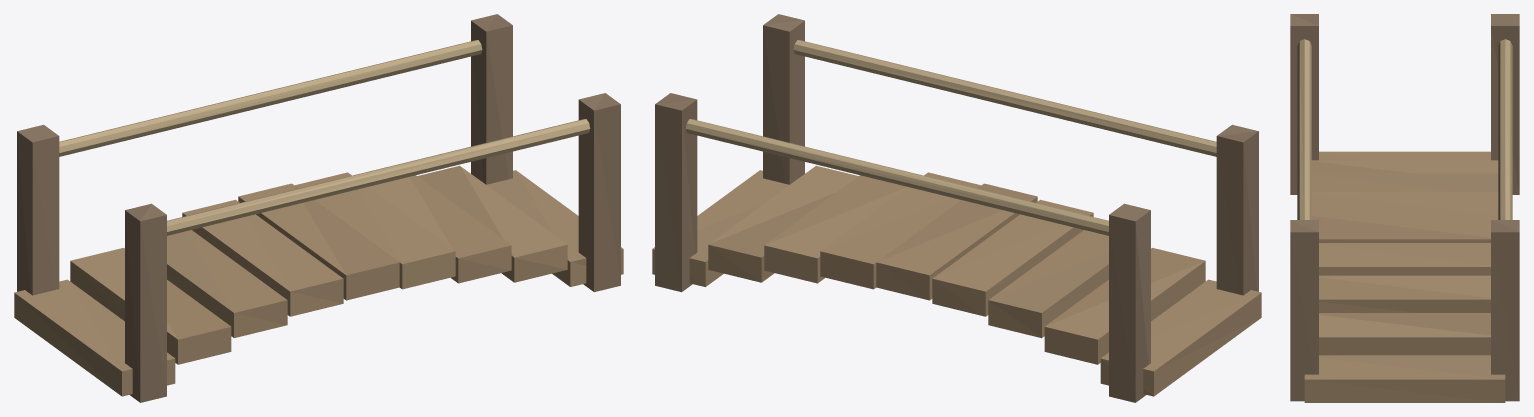
Rendered from bridge.glb.
3 views of the same model, side by side, from view 1: azimuth 30°, elevation 25°; view 2: azimuth 150°, elevation 25°; view 3: azimuth 270°, elevation 25° (orthographic). The views are drawn at different scales.
Visible parts, largest first — view 1: post_-0.85_-0.35, post_0.85_-0.35, plank_0, plank_3, plank_2, post_-0.85_0.35, plank_4, rail_0.35, rail_-0.35, plank_5, plank_1, plank_7 (+3 smaller); view 2: post_-0.85_0.35, post_0.85_0.35, plank_0, plank_3, plank_2, post_-0.85_-0.35, plank_4, rail_-0.35, rail_0.35, plank_5, plank_1, plank_7 (+3 smaller); view 3: plank_8, plank_7, plank_6, plank_5, post_0.85_-0.35, post_0.85_0.35, plank_4, plank_3, plank_2, post_-0.85_-0.35, post_-0.85_0.35, rail_-0.35 (+3 smaller).
Boxes of the visible parts, box(x1,y1,x2,y2) form: post_-0.85_-0.35: box(125, 203, 166, 402); post_0.85_-0.35: box(578, 93, 620, 292); plank_0: box(14, 279, 175, 396); plank_3: box(182, 199, 343, 316); plank_2: box(167, 230, 287, 338); post_-0.85_0.35: box(17, 124, 59, 295); plank_4: box(238, 183, 399, 300); rail_0.35: box(59, 40, 482, 156); rail_-0.35: box(167, 119, 590, 235); plank_5: box(295, 172, 455, 289); plank_1: box(70, 248, 231, 364); plank_7: box(417, 165, 567, 282); post_-0.85_0.35: box(1109, 203, 1150, 402); post_0.85_0.35: box(655, 93, 697, 292); plank_0: box(1100, 279, 1261, 396); plank_3: box(932, 199, 1093, 316); plank_2: box(988, 230, 1108, 338); post_-0.85_-0.35: box(1216, 124, 1258, 295); plank_4: box(876, 183, 1037, 300); rail_-0.35: box(793, 40, 1216, 156); rail_0.35: box(685, 119, 1108, 235); plank_5: box(820, 172, 980, 289); plank_1: box(1044, 248, 1205, 364); plank_7: box(708, 165, 858, 282); plank_8: box(1304, 355, 1505, 402); plank_7: box(1319, 313, 1490, 355); plank_6: box(1319, 275, 1490, 312); plank_5: box(1319, 243, 1490, 275); post_0.85_-0.35: box(1290, 220, 1318, 401); post_0.85_0.35: box(1491, 220, 1519, 401); plank_4: box(1311, 215, 1498, 242); plank_3: box(1311, 192, 1498, 214); plank_2: box(1311, 173, 1498, 191); post_-0.85_-0.35: box(1290, 14, 1318, 194); post_-0.85_0.35: box(1491, 14, 1519, 194); rail_-0.35: box(1297, 39, 1311, 219).
Size of the model in its own units: 1.88 by 0.65 by 0.8.
